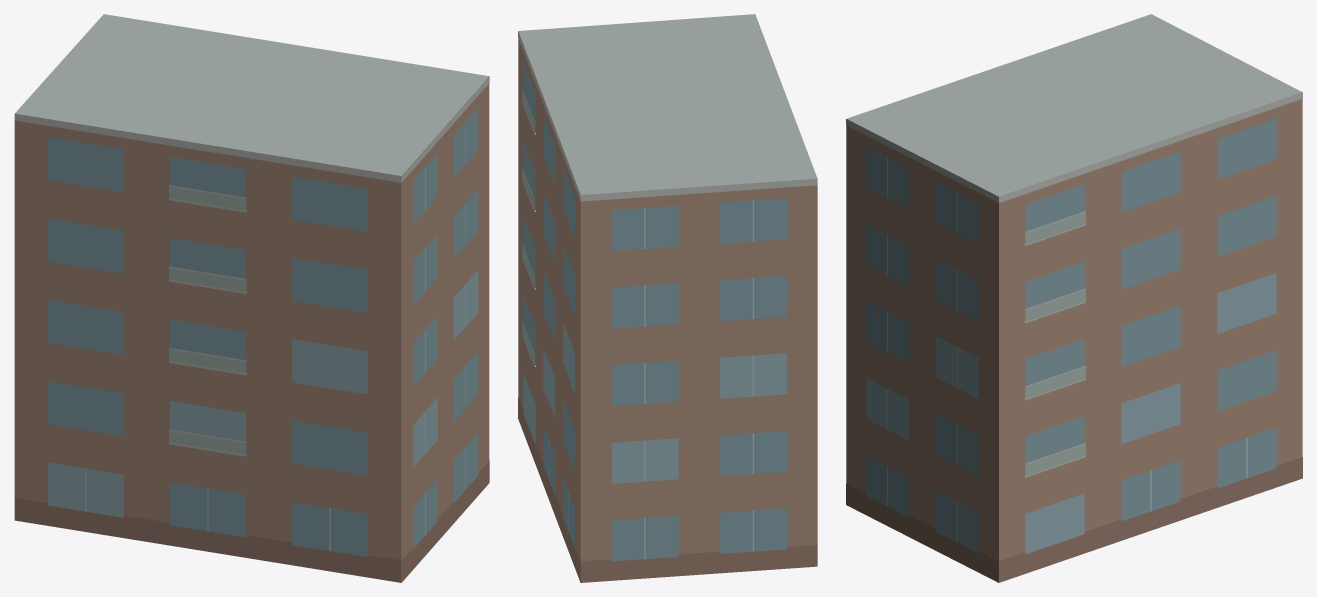
File: survey-upis-32883515.glb
3 views of the same model, side by side, from view 1: azimuth 30°, elevation 25°; view 2: azimuth 150°, elevation 25°; view 3: azimuth 270°, elevation 25° (orthographic). The views are drawn at different scales.
Visible parts, largest first — view 1: survey-upis-32883515.tmp; view 2: survey-upis-32883515.tmp; view 3: survey-upis-32883515.tmp.
Boxes of the visible parts, x1,y1,x2,y2 form: survey-upis-32883515.tmp: (14, 14, 489, 582); survey-upis-32883515.tmp: (518, 14, 817, 582); survey-upis-32883515.tmp: (846, 14, 1302, 582).
Size of the model in its own units: 14.72 by 14.5 by 15.54.
